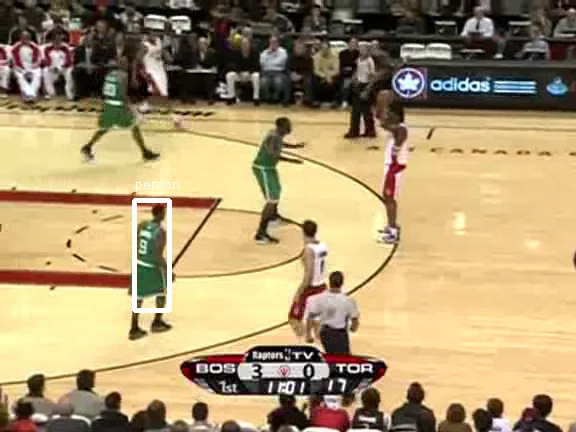person: (133, 220, 167, 301), (132, 220, 166, 301), (134, 220, 168, 301), (133, 219, 167, 300), (133, 221, 167, 302)
target_negative: (197, 2, 414, 266), (114, 175, 358, 373), (331, 6, 555, 206), (272, 38, 326, 179), (187, 198, 227, 353), (176, 75, 180, 271)
